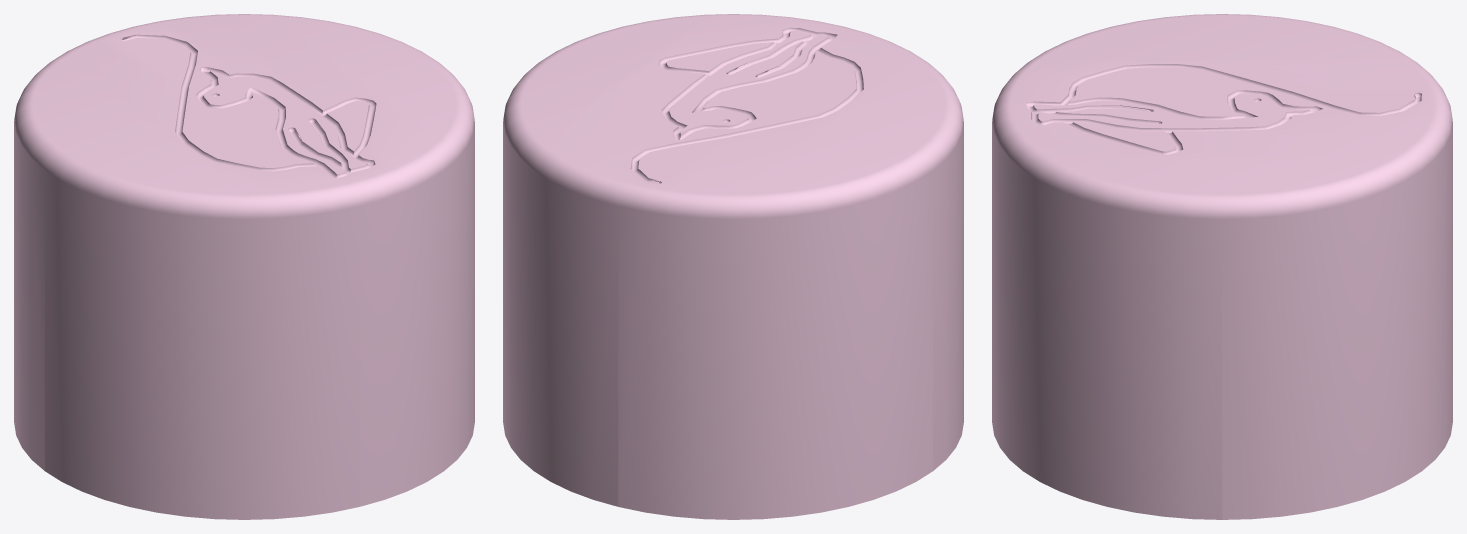
File: original-23.obj
3 renders of one model, left to right at view 1: azimuth 30°, elevation 25°; view 2: azimuth 150°, elevation 25°; view 3: azimuth 270°, elevation 25°, orthographic.
Visible parts, largest first — view 1: mesh19/mesh19-geometry#mesh19-geometry; view 2: mesh19/mesh19-geometry#mesh19-geometry; view 3: mesh19/mesh19-geometry#mesh19-geometry.
Boxes of the visible parts, x1,y1,x2,y2 form: mesh19/mesh19-geometry#mesh19-geometry: (14,14,474,519); mesh19/mesh19-geometry#mesh19-geometry: (503,14,963,519); mesh19/mesh19-geometry#mesh19-geometry: (992,14,1452,519).
Size of the model in its own units: 0.5608 by 0.4262 by 0.5608.
